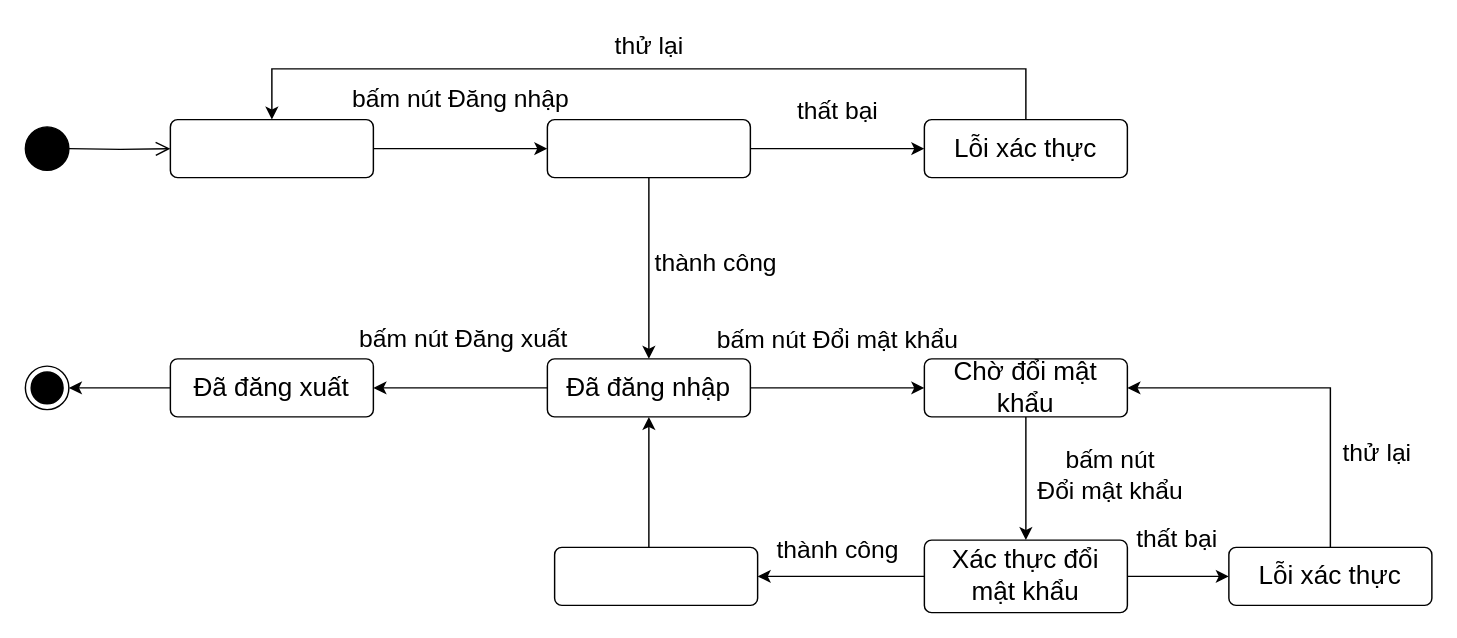
The diagram is 1457 pixels wide and 638 high, and some of its shapes have lost their labels. Here are the shapes that lost their labels. From the top down, the centre of each, then its label:
At (x=271, y=148): "Chờ đăng nhập".
At (x=648, y=148): "Xác thực đăng nhập".
At (x=655, y=575): "Đã đổi mật khẩu".
